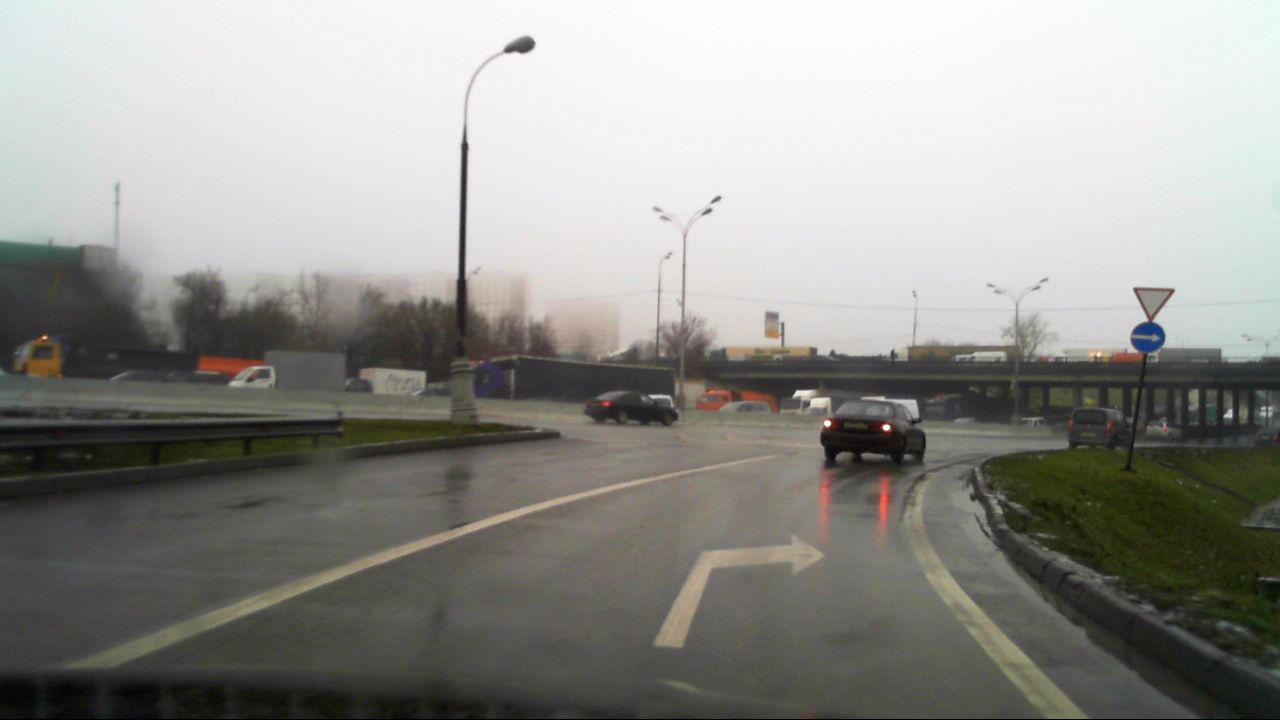Turn Right: (1130, 322, 1166, 354)
